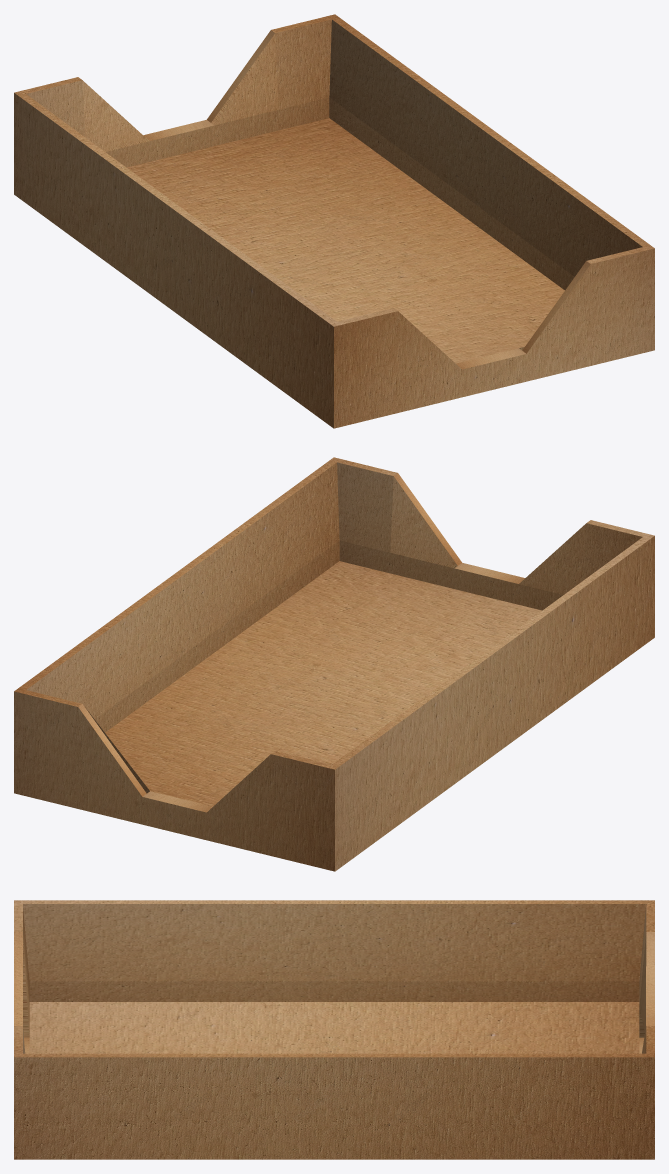
The model's file is cartonBox.fbx.
3 views of the same model, one above another, from view 1: azimuth 30°, elevation 25°; view 2: azimuth 150°, elevation 25°; view 3: azimuth 270°, elevation 25° (orthographic).
Visible parts, largest first — view 1: Cube; view 2: Cube; view 3: Cube.
Boxes of the visible parts, x1,y1,x2,y2 form: Cube: (14, 14, 654, 428); Cube: (14, 457, 654, 871); Cube: (14, 900, 654, 1159).
Bounding box in the file's own units: 362 × 110 × 624.
1 material, 1 textured.
